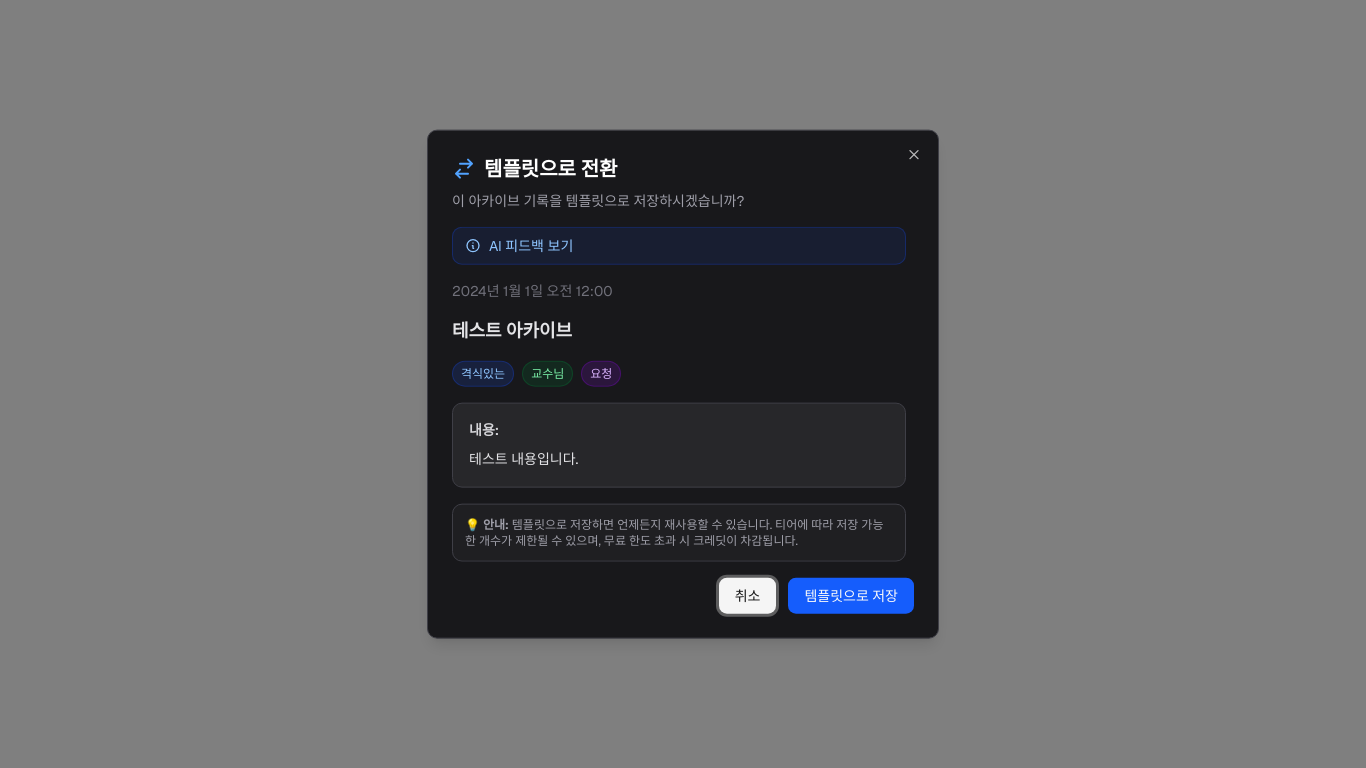
ConvertToTemplateModal › 버튼 상태 › 변환 중에는 버튼이 비활성화된다
The width and height of the screenshot is (1366, 768).
Click the button "템플릿으로 저장": (851, 595) [788,577,914,613]
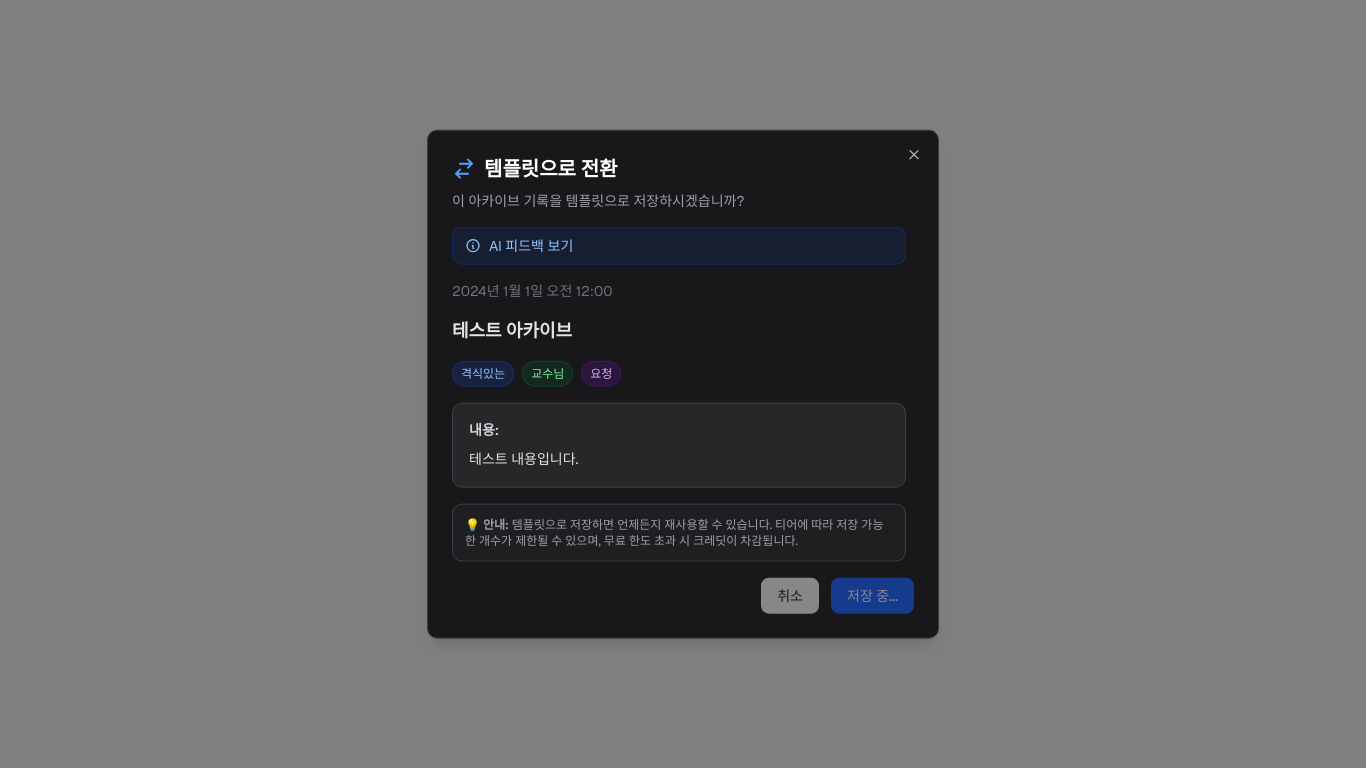
Now the button "저장 중..." is disabled, box [831,577,914,613]
Now the button "취소" is disabled, box [761,577,819,613]
